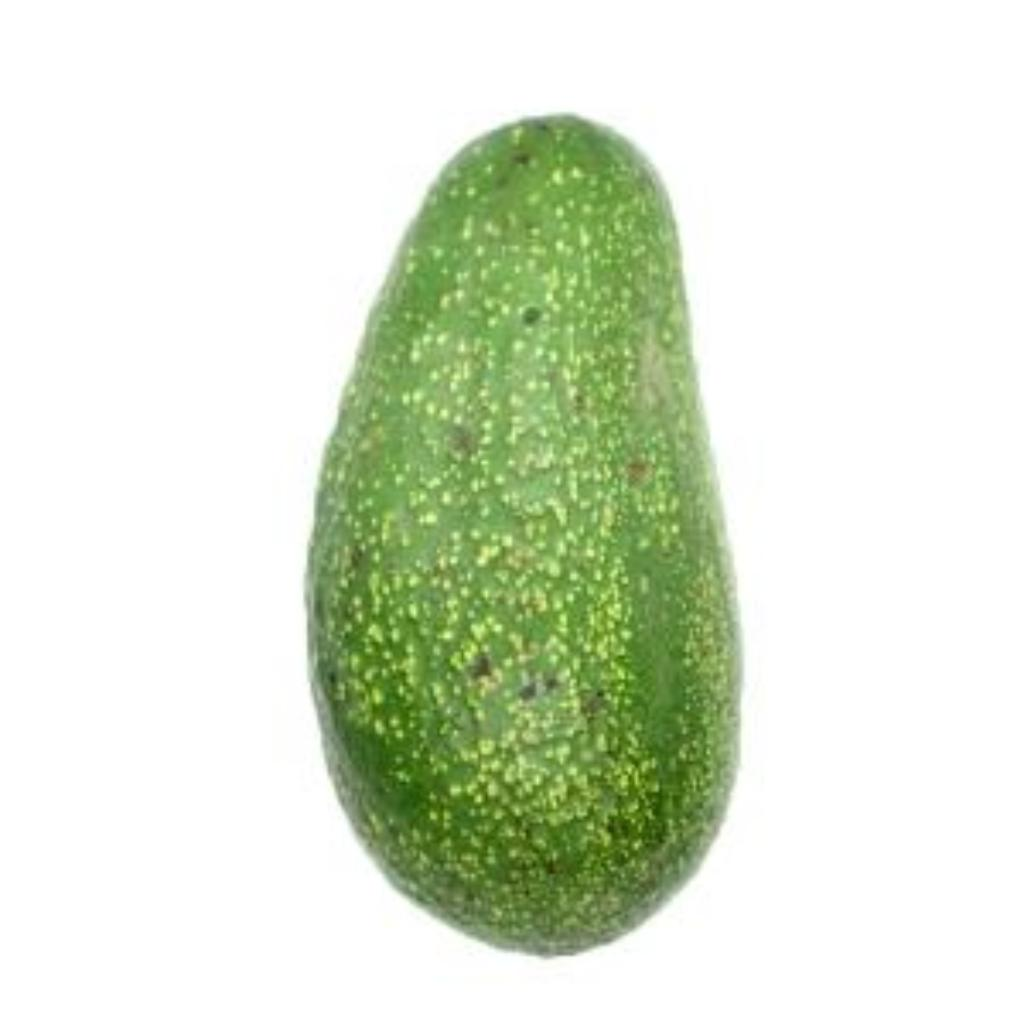cercospora: (296, 98, 753, 955)
